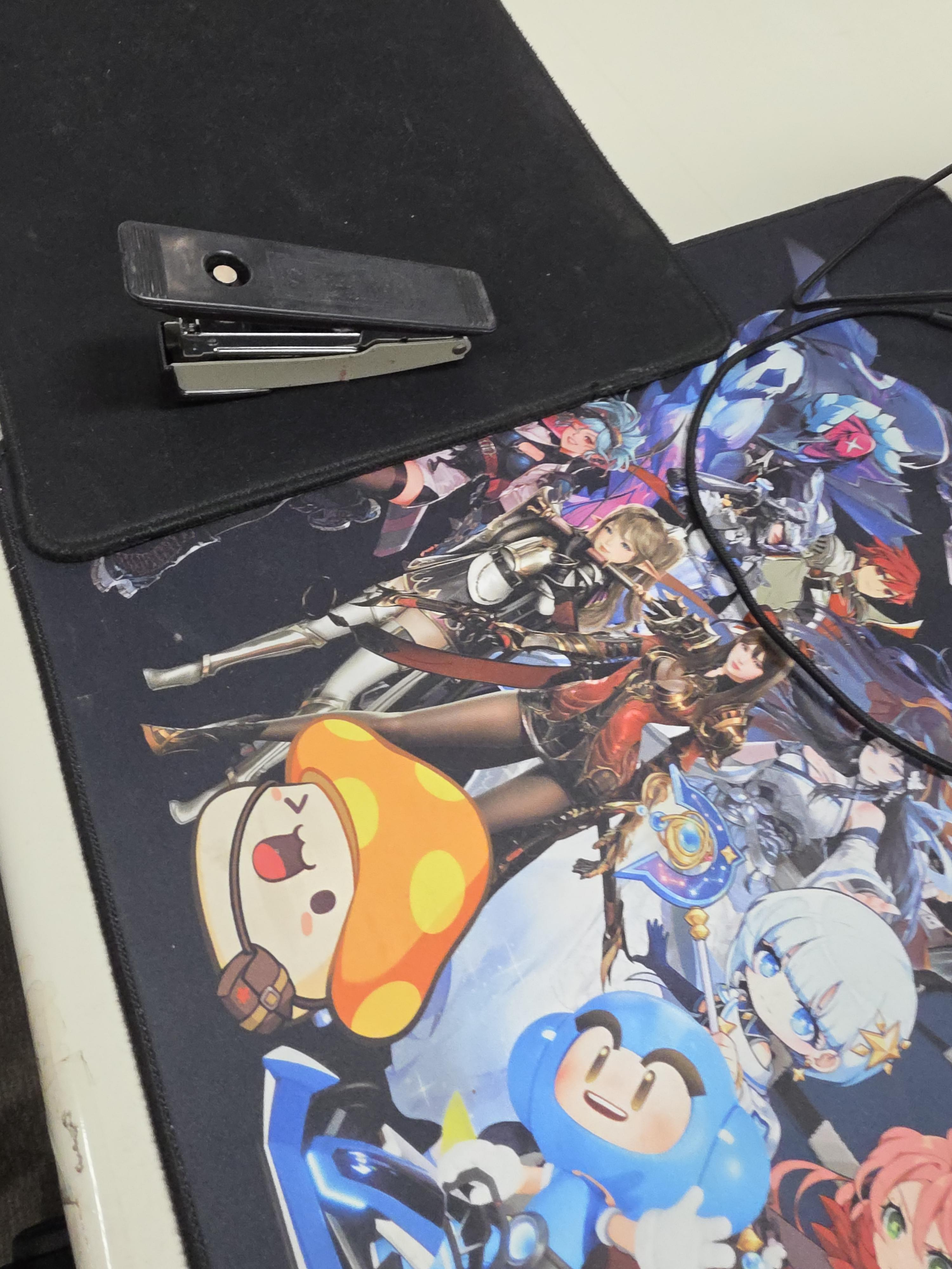stapler: (115, 219, 497, 403)
